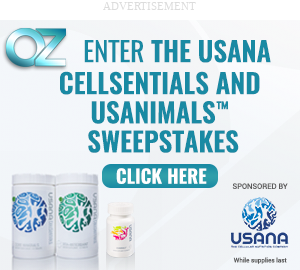fake_button: (99, 162, 223, 197)
